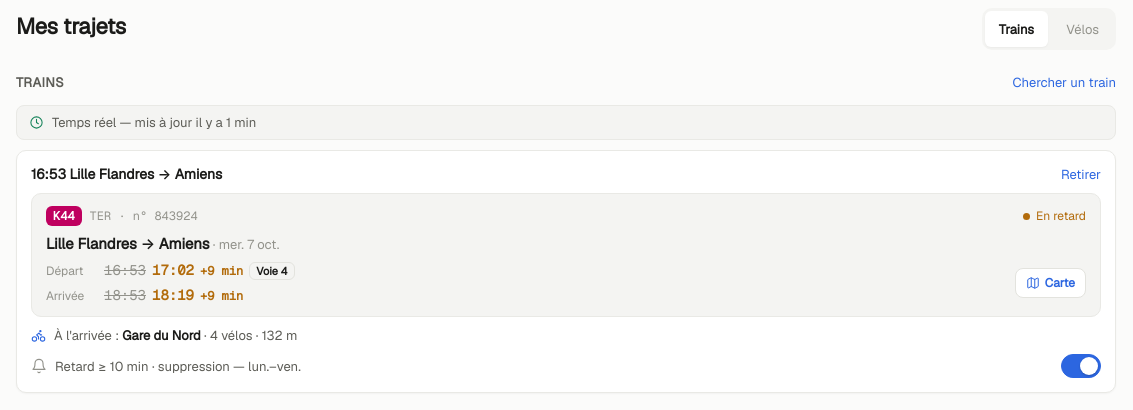
Test: Mes trajets › bascule Trains / Vélos : une catégorie à la fois, choix mémorisé
Expected: the text "16:53 Lille Flandres → Amiens" is shown, [31,165,222,183]
Click the button "Vélos": (1083,29) [1052,11,1113,47]
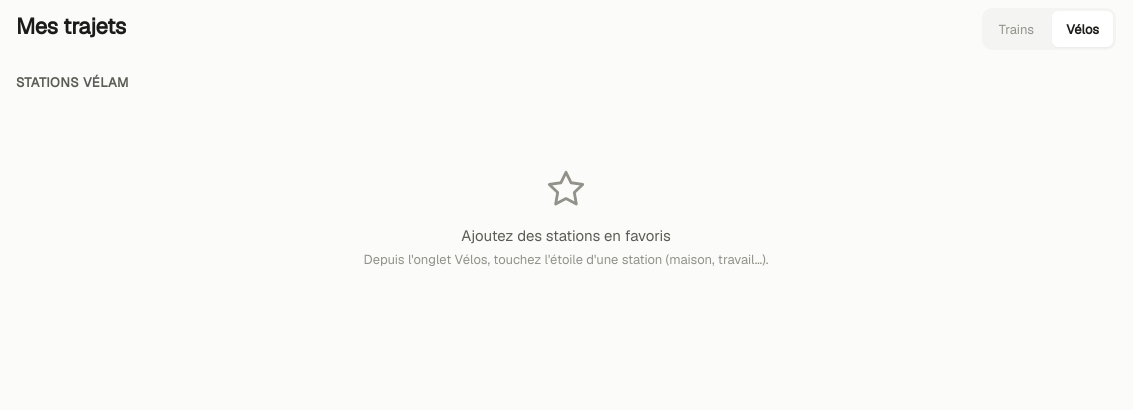
Expected: the heading "Stations Vélam" is shown, [16,74,129,91]
Expected: the text "16:53 Lille Flandres → Amiens" is gone
